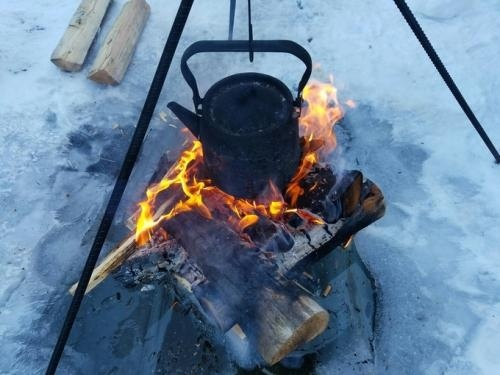fire: (127, 126, 212, 245), (293, 72, 354, 185), (217, 177, 290, 224)
